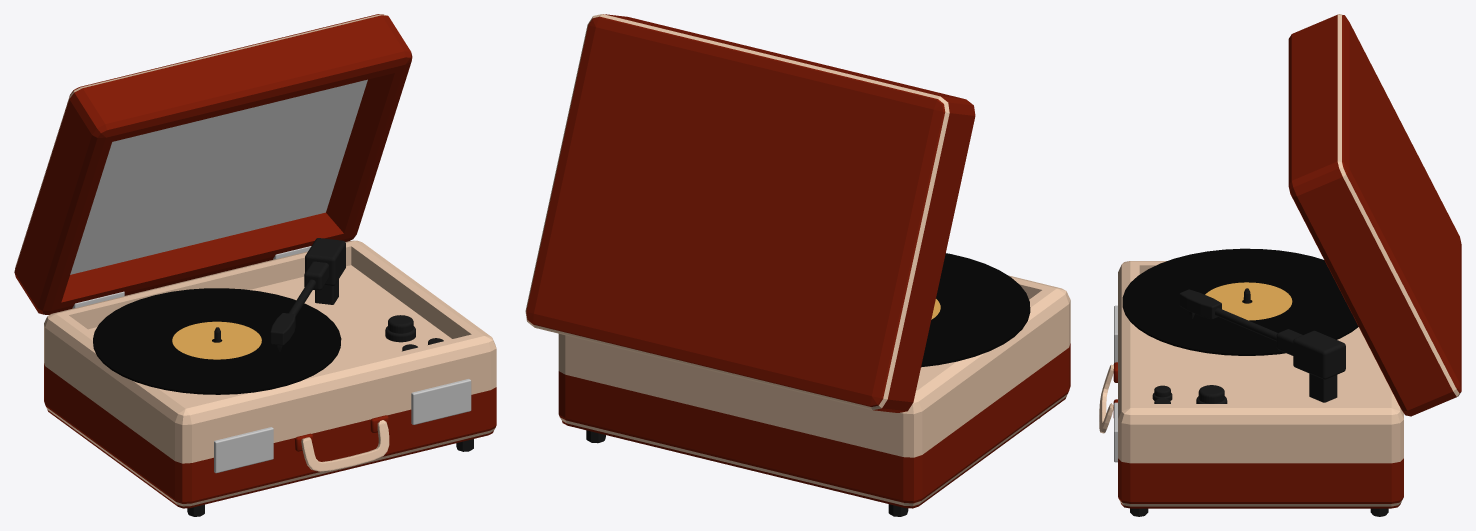
File: Record.glb
The picture shows the model from 3 angles, left to right: view 1: azimuth 30°, elevation 25°; view 2: azimuth 150°, elevation 25°; view 3: azimuth 270°, elevation 25°; orthographic projection. The views are drawn at different scales.
Parts seen in each view (by area): view 1: ChamferCyl009; view 2: ChamferCyl009; view 3: ChamferCyl009.
Boxes of the visible parts, x1,y1,x2,y2 form: ChamferCyl009: [14, 14, 496, 516]; ChamferCyl009: [525, 14, 1070, 516]; ChamferCyl009: [1099, 14, 1461, 516].
Size of the model in its own units: 81 by 84.67 by 77.13.
